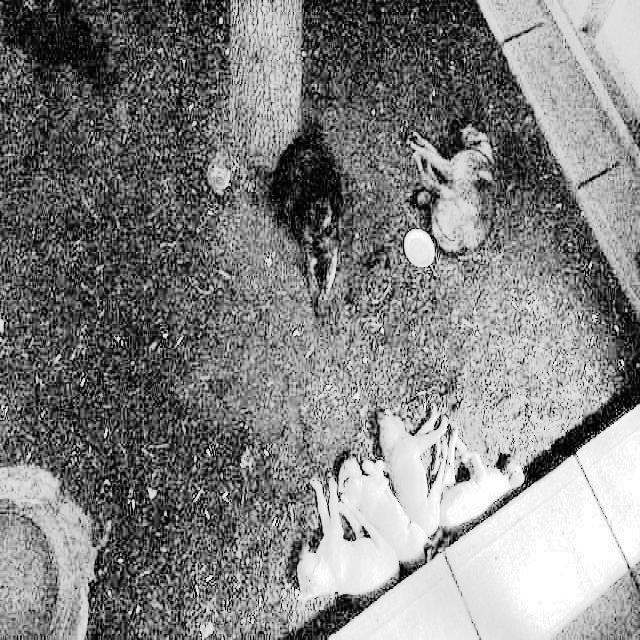Dog: (367, 384, 484, 544), (340, 446, 430, 586), (440, 441, 550, 529), (304, 489, 382, 607)
